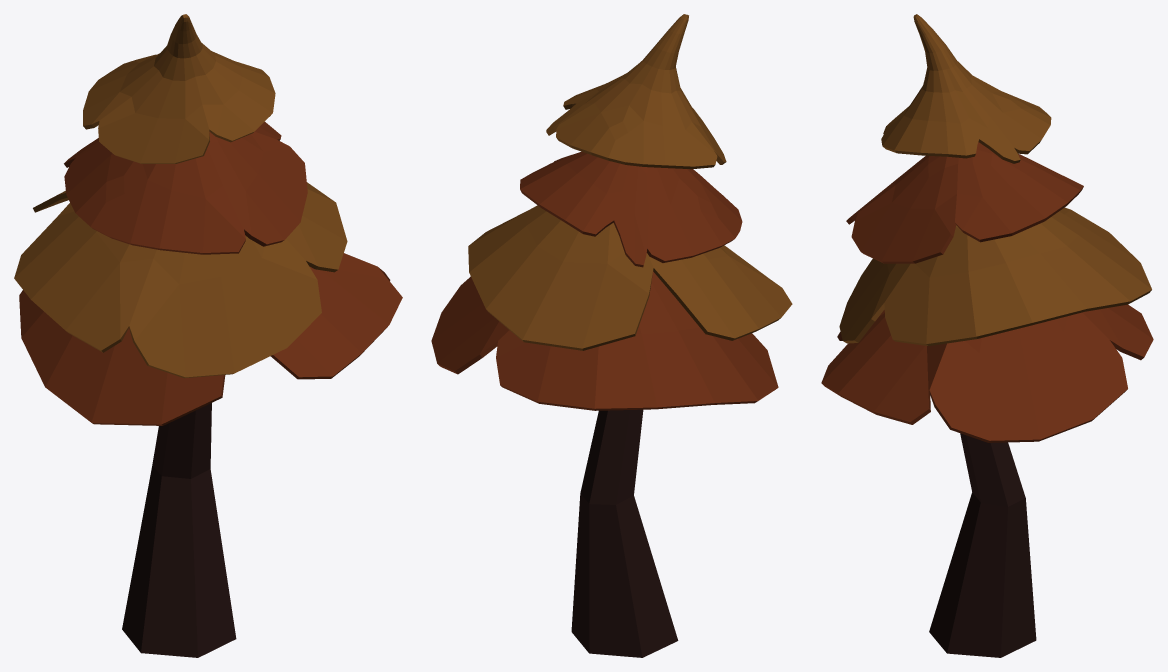
The model's file is PineTree_Autumn_5.obj.
3 views of the same model, side by side, from view 1: azimuth 30°, elevation 25°; view 2: azimuth 150°, elevation 25°; view 3: azimuth 270°, elevation 25° (orthographic). The views are drawn at different scales.
Visible parts, largest first — view 1: PineTree_Autumn_5_Cylinder.061; view 2: PineTree_Autumn_5_Cylinder.061; view 3: PineTree_Autumn_5_Cylinder.061.
Part boxes in pixels (bbox=[...]): PineTree_Autumn_5_Cylinder.061: bbox=[14, 14, 402, 657]; PineTree_Autumn_5_Cylinder.061: bbox=[431, 14, 792, 657]; PineTree_Autumn_5_Cylinder.061: bbox=[821, 14, 1153, 657].
Bounding box in the file's own units: 1.47 × 2.69 × 1.34.
